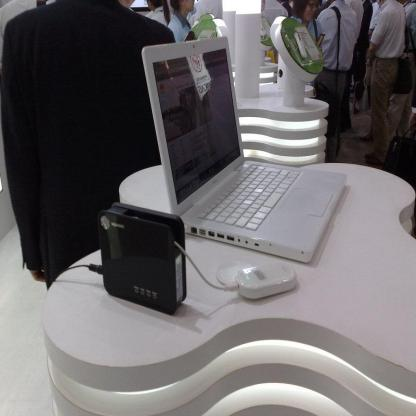board: (140, 36, 348, 264)
